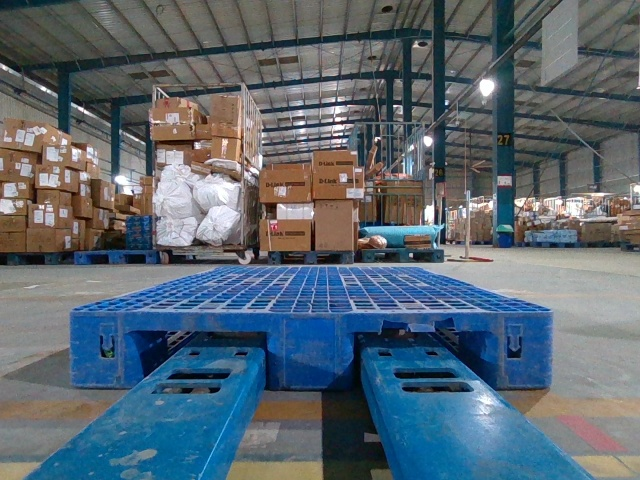block: (267, 310, 355, 391), (71, 308, 138, 389), (497, 308, 553, 390)
front: (71, 310, 551, 388)
hole pallet: (350, 325, 497, 393), (126, 326, 277, 389)
